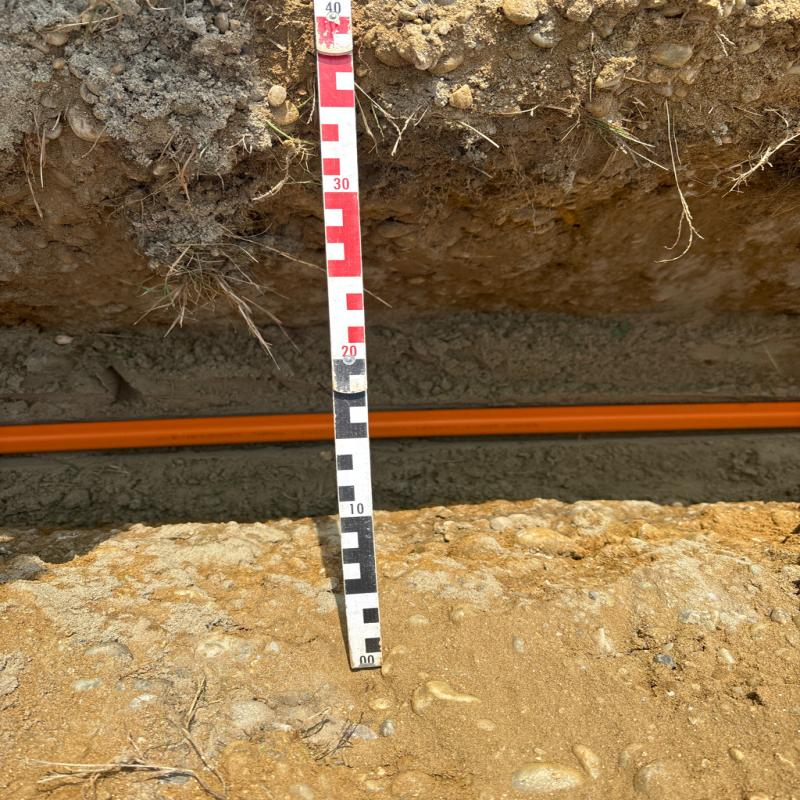Orang-Speednetrohrchen: (1, 400, 800, 451)
